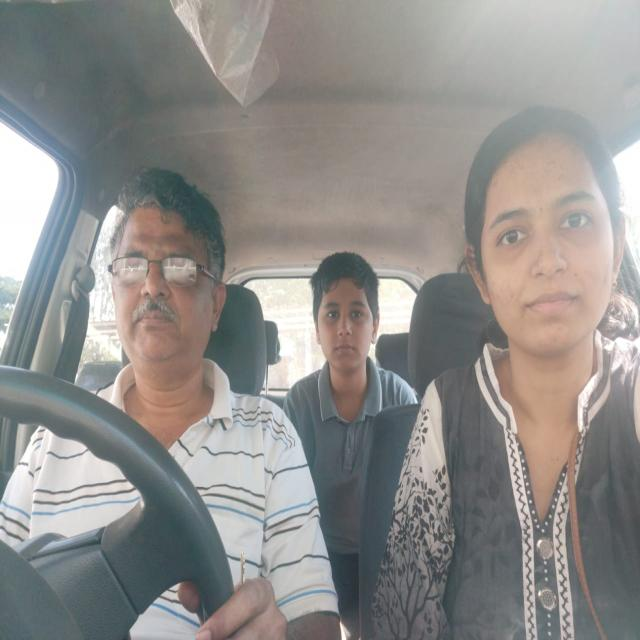person: (462, 92, 628, 379), (101, 167, 238, 394), (304, 249, 390, 392)
